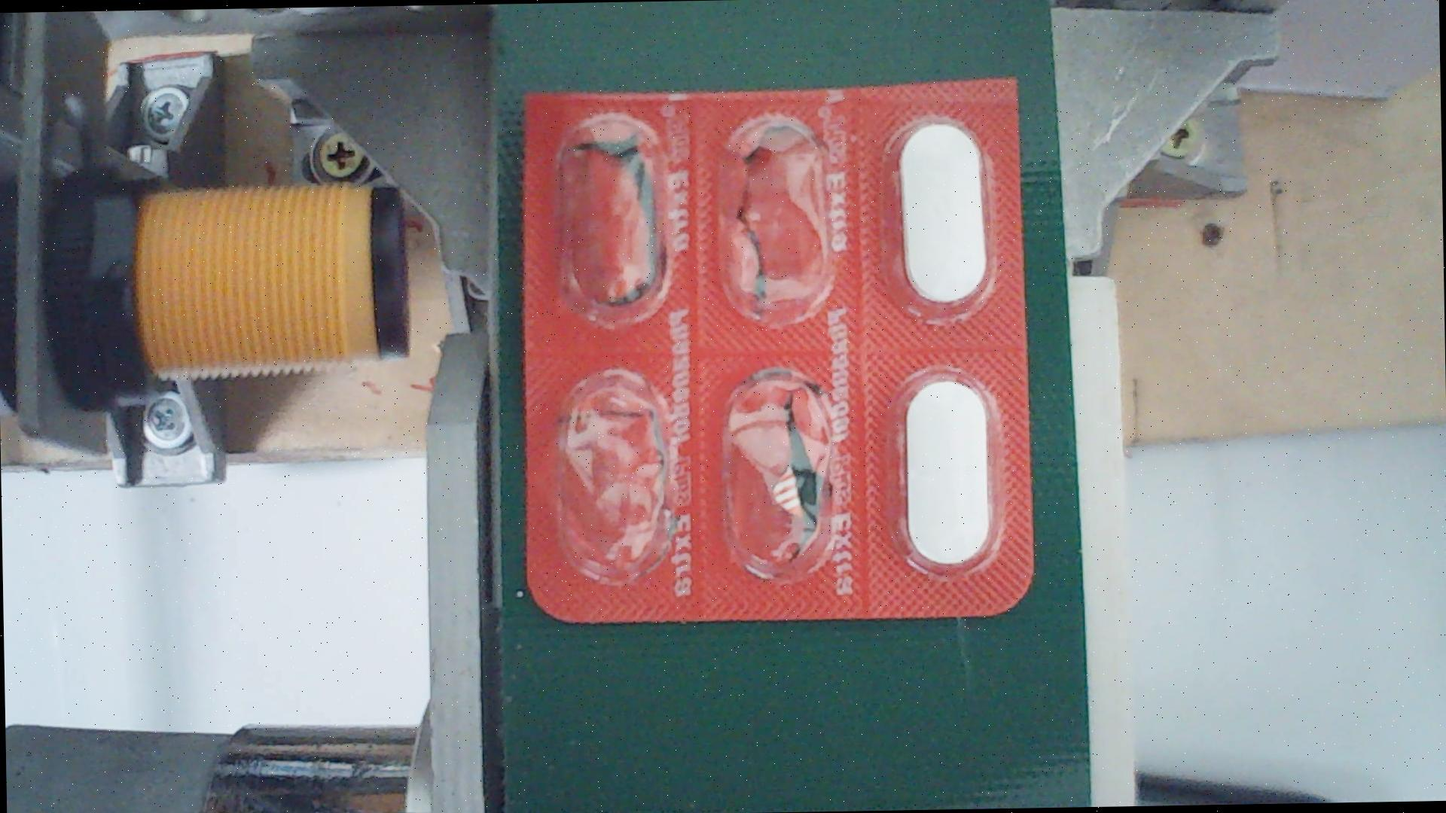Empty: (557, 103, 673, 319), (563, 365, 678, 582), (722, 368, 837, 584), (720, 113, 835, 329)
Full: (887, 106, 1003, 322), (891, 363, 1006, 579)
